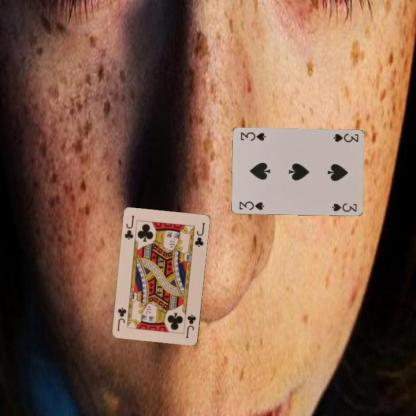3s: (330, 130, 360, 144), (237, 199, 266, 211)
Jc: (183, 312, 197, 340), (122, 213, 136, 240)
